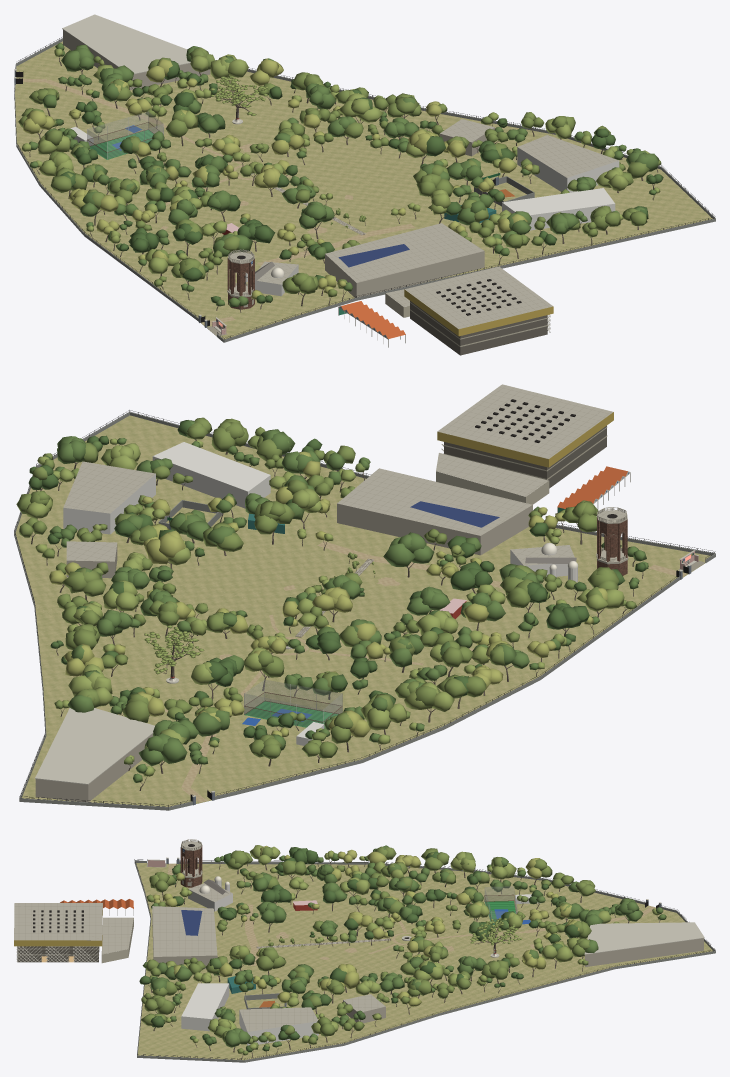
The model's file is liaquat_bagh.glb.
3 views of the same model, one above another, from view 1: azimuth 30°, elevation 25°; view 2: azimuth 150°, elevation 25°; view 3: azimuth 270°, elevation 25° (orthographic). The views are drawn at different scales.
Parts seen in each view (by area): view 1: m_lawn, m_leaf_olive, m_leaf_mid, m_concrete_roof, m_leaf_light, m_leaf_yellow, m_leaf_dark, m_white_roof, m_boundary_plaster, m_pale_kerb, m_office_block, m_hall_wall (+13 smaller); view 2: m_lawn, m_leaf_olive, m_leaf_mid, m_concrete_roof, m_leaf_light, m_leaf_yellow, m_leaf_dark, m_white_roof, m_pale_kerb, m_office_block, m_boundary_plaster, m_hall_wall (+13 smaller); view 3: m_lawn, m_leaf_olive, m_leaf_mid, m_concrete_roof, m_leaf_light, m_leaf_dark, m_leaf_yellow, m_boundary_plaster, m_white_roof, m_pale_kerb, m_office_block, m_bark (+12 smaller).
Boxes of the visible parts, box(x1,y1,x2,y2) form: m_lawn: box(15, 41, 712, 339); m_leaf_olive: box(18, 47, 661, 296); m_leaf_mid: box(29, 43, 658, 306); m_concrete_roof: box(230, 119, 618, 328); m_leaf_light: box(22, 48, 660, 276); m_leaf_yellow: box(23, 58, 532, 299); m_leaf_dark: box(55, 60, 663, 303); m_white_roof: box(70, 127, 619, 296); m_boundary_plaster: box(14, 38, 715, 342); m_pale_kerb: box(14, 14, 254, 332); m_office_block: box(63, 30, 494, 297); m_hall_wall: box(410, 301, 547, 355); m_lawn: box(15, 415, 710, 806); m_leaf_olive: box(16, 417, 636, 764); m_leaf_mid: box(32, 420, 648, 782); m_concrete_roof: box(63, 384, 625, 565); m_leaf_light: box(25, 438, 624, 776); m_leaf_yellow: box(49, 451, 607, 737); m_leaf_dark: box(28, 420, 645, 744); m_white_roof: box(63, 442, 577, 745); m_pale_kerb: box(35, 550, 698, 796); m_office_block: box(35, 503, 532, 802); m_boundary_plaster: box(14, 412, 715, 810); m_hall_wall: box(444, 425, 606, 488); m_lawn: box(136, 863, 712, 1060); m_leaf_olive: box(141, 846, 595, 1055); m_leaf_mid: box(142, 845, 666, 1047); m_concrete_roof: box(14, 841, 385, 1031); m_leaf_light: box(166, 845, 659, 1049); m_leaf_dark: box(139, 847, 580, 1052); m_leaf_yellow: box(153, 845, 579, 1006); m_boundary_plaster: box(134, 860, 715, 1062); m_white_roof: box(181, 880, 540, 1045); m_pale_kerb: box(147, 857, 704, 957); m_office_block: box(152, 914, 703, 1023); m_bark: box(148, 860, 660, 1059).
Size of the model in its own units: 222 by 20.73 by 329.
63 materials, 6 textured.
